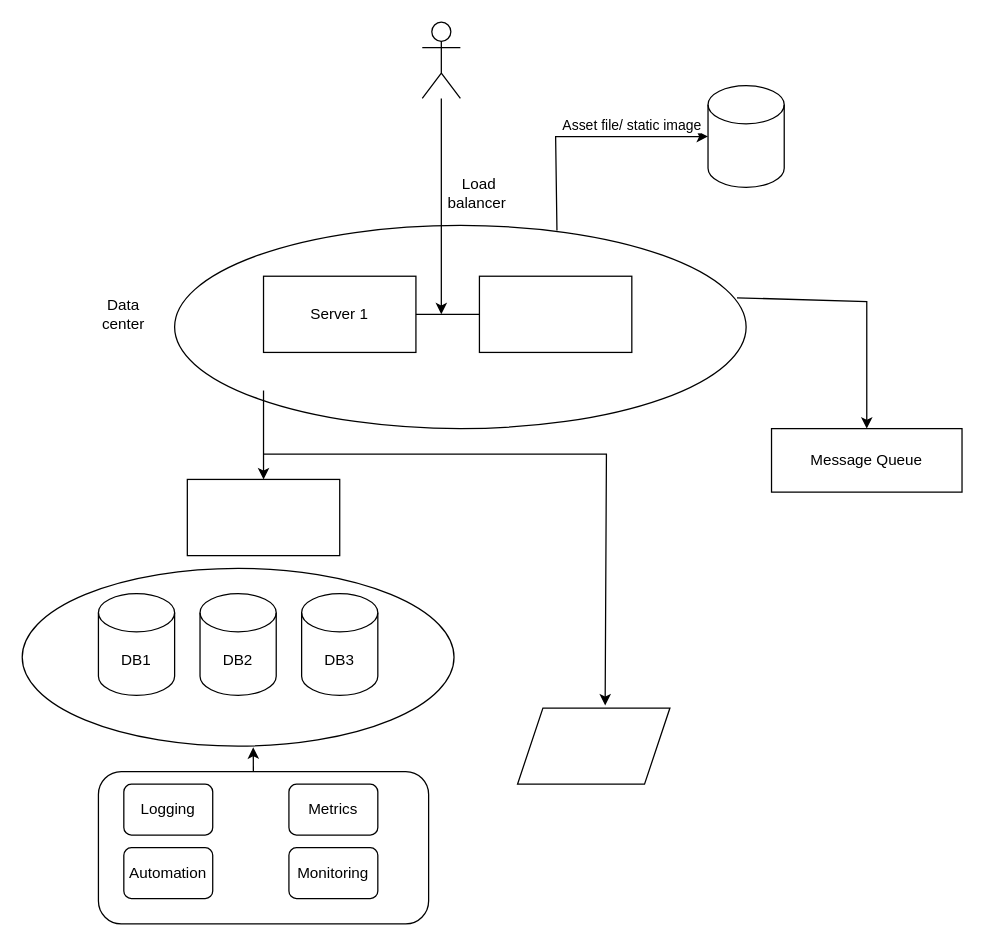
Some shapes in this 984 by 946 pixel diagram are drawn without their labels. Each missing label, with the centre of its shape:
"Caching" goes at point 593,745.
"CDN" goes at point 745,135.
"Database replicate" goes at point 263,517.
"Server 2" goes at point 555,313.
"User" goes at point 440,59.
